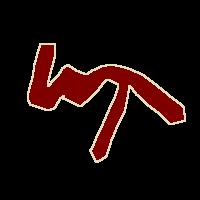tie: (28, 44, 185, 162)
